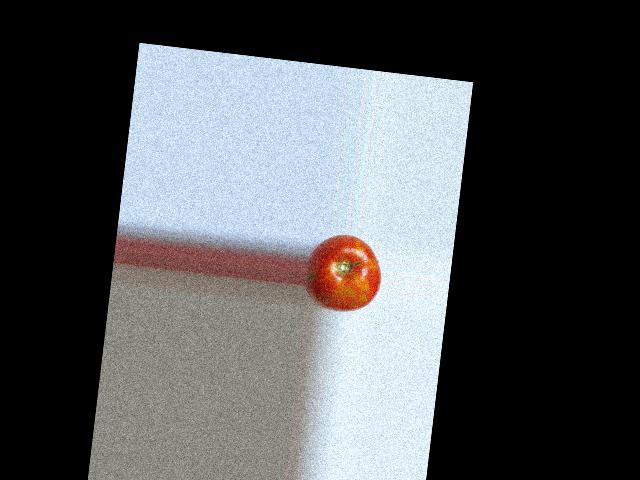tomato: (302, 230, 385, 315)
